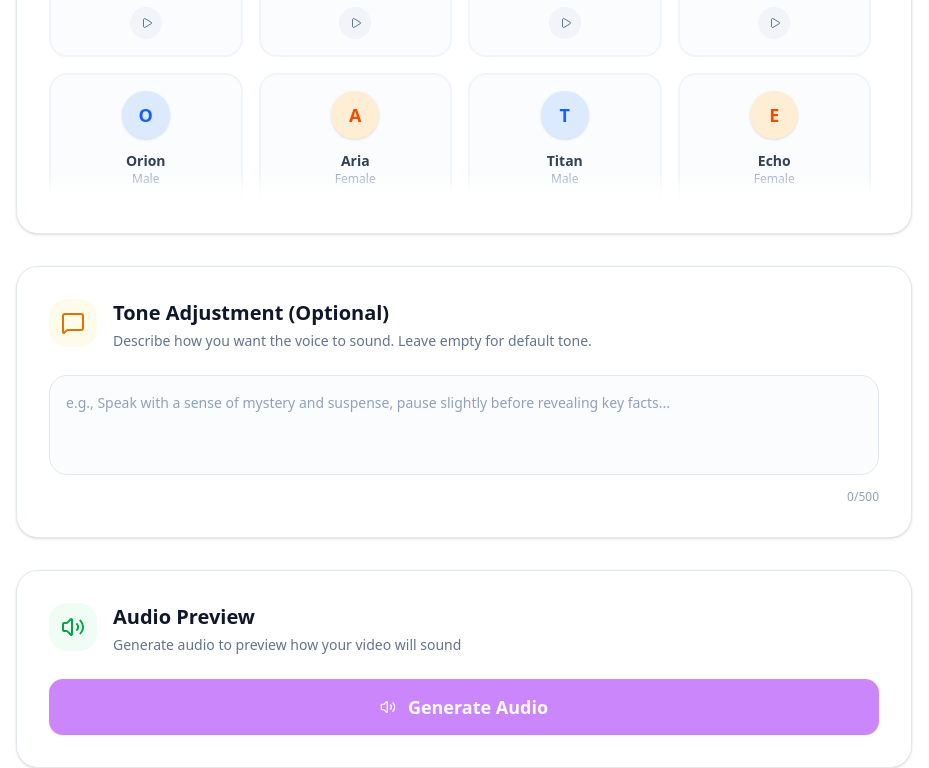
Test case: EditorAudioStep Component › Tone Prompt › should show character count for tone prompt
(page scrolled)
Expected: the text "0/500" is shown, [847, 489, 879, 505]
Step 1. Type "Test" into the text box with placeholder "Speak with a sense of mystery" → (464, 425), box [49, 375, 879, 475]
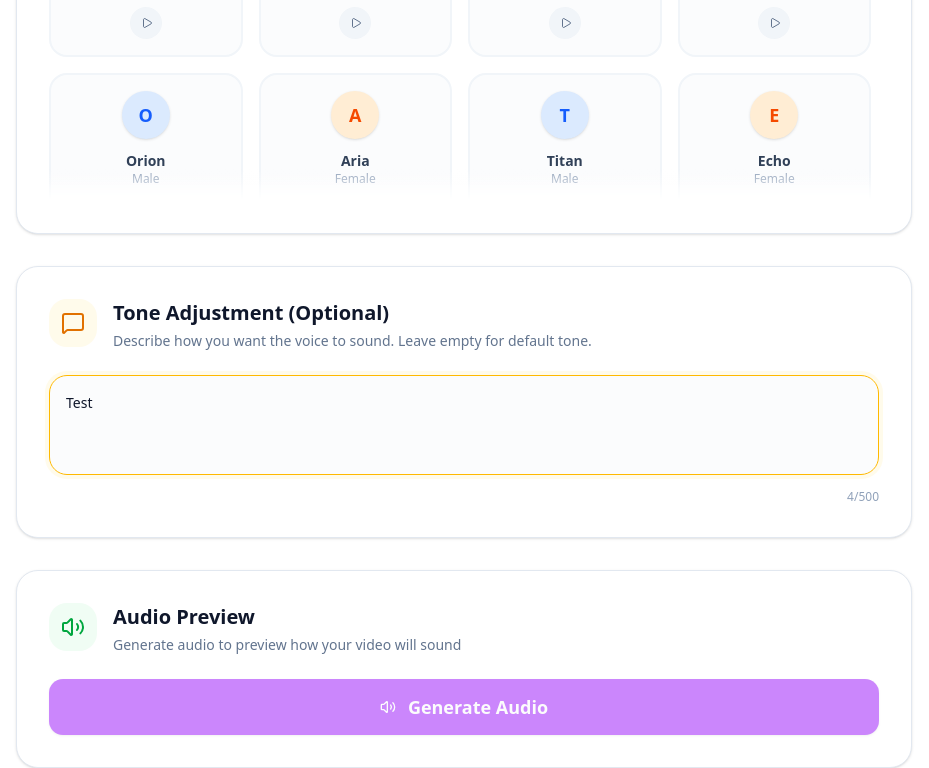
Expected: the text "4/500" is shown, [847, 489, 879, 505]
